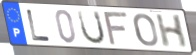0: (54, 9, 77, 45)
F: (103, 11, 130, 47)
H: (154, 14, 189, 50)
L: (25, 8, 52, 43)
O: (132, 13, 160, 48)
U: (76, 9, 107, 46)
